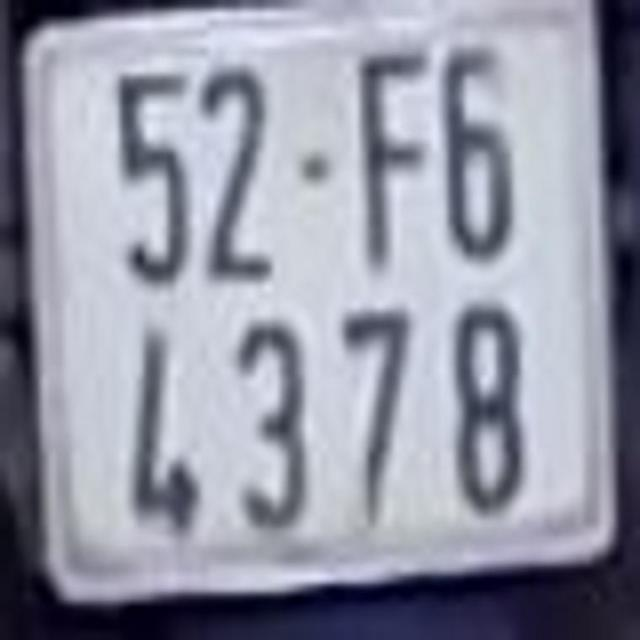2: (200, 63, 277, 283)
3: (232, 316, 310, 532)
4: (127, 325, 203, 538)
5: (115, 67, 192, 283)
6: (440, 39, 518, 263)
7: (341, 304, 412, 528)
8: (449, 300, 527, 518)
F: (355, 47, 431, 268)
